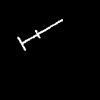double_crochet: (18, 20, 62, 49)
